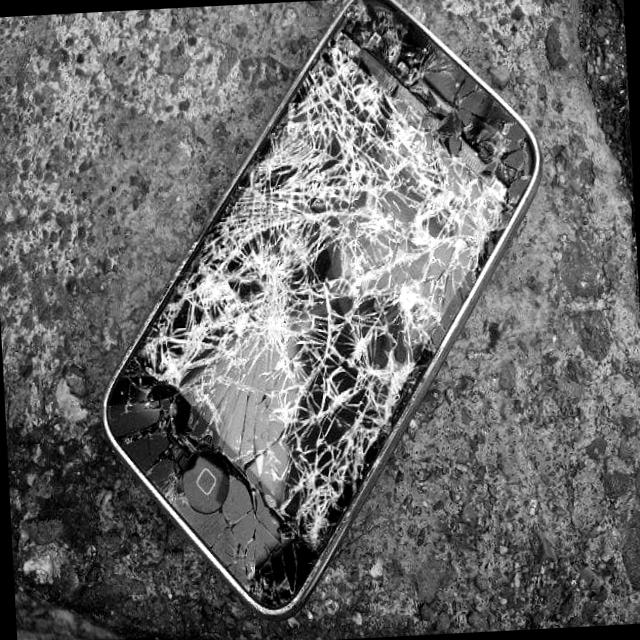Crack: (62, 199, 506, 613), (230, 0, 592, 286)
